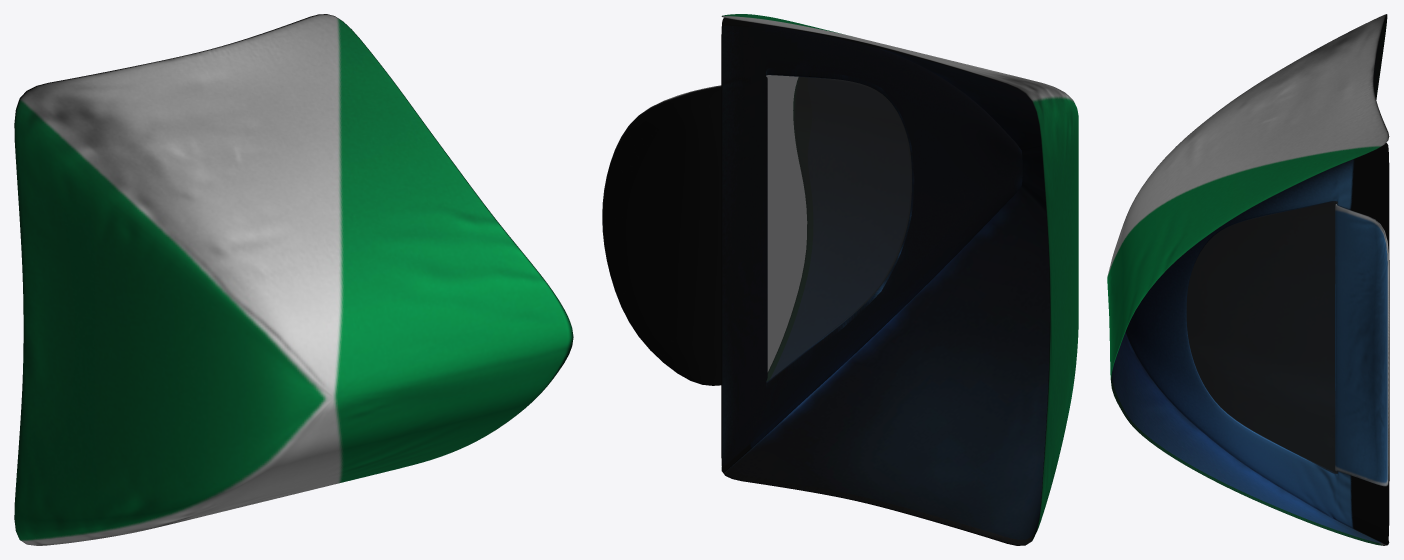
Rendered from 10495_Green_Mesh_Tent_V1_L3.obj.
The picture shows the model from 3 angles, left to right: view 1: azimuth 30°, elevation 25°; view 2: azimuth 150°, elevation 25°; view 3: azimuth 270°, elevation 25°; orthographic projection. The views are drawn at different scales.
Parts seen in each view (by area): view 1: 10495_Green_Mesh_Tent_Base; view 2: 10495_Green_Mesh_Tent_Base, 10495_Green_Mesh_Tent_Opacity; view 3: 10495_Green_Mesh_Tent_Base, 10495_Green_Mesh_Tent_Opacity.
Part boxes in pixels (x1=…): 10495_Green_Mesh_Tent_Base: x1=14, y1=14, x2=573, y2=545; 10495_Green_Mesh_Tent_Base: x1=602, y1=14, x2=1078, y2=545; 10495_Green_Mesh_Tent_Opacity: x1=766, y1=75, x2=911, y2=381; 10495_Green_Mesh_Tent_Base: x1=1107, y1=14, x2=1389, y2=545; 10495_Green_Mesh_Tent_Opacity: x1=1186, y1=201, x2=1337, y2=473.
Bounding box in the file's own units: 207 × 208 × 131.
Materials: 2 (1 with a texture image).
